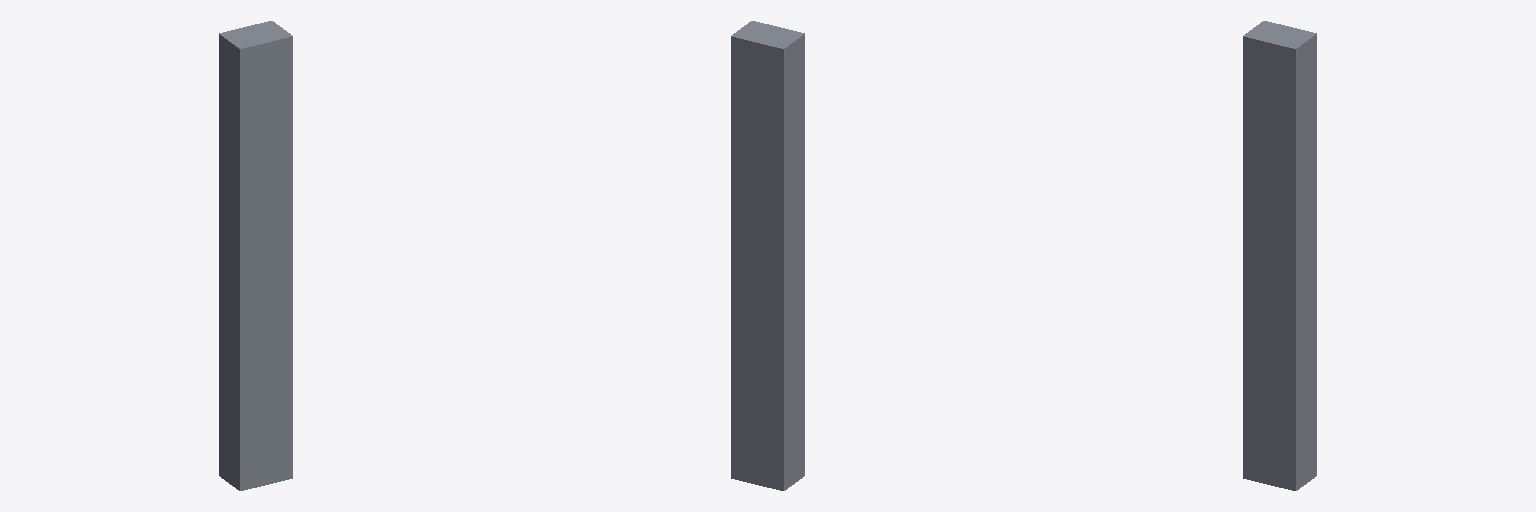
The robot description file, URDF, robot "artmanip_knife_000":
<?xml version='1.0' encoding='utf-8'?>
<robot name="artmanip_knife_000"><link name="link_0"><inertial><mass value="0.031355823555285205" /><inertia ixx="4.861872604116419e-05" iyy="4.901383451750586e-05" izz="1.1480288363137078e-06" ixy="0" ixz="0" iyz="0" /></inertial><visual><geometry><box size="0.017183784020088334 0.01200303409776134 0.13587681738270369" /></geometry><material name="link_0_color"><color rgba=".58 .60 .64 1" /></material></visual><collision><geometry><box size="0.017183784020088334 0.01200303409776134 0.13587681738270369" /></geometry></collision></link><link name="link_1"><inertial><mass value="0.006" /><inertia ixx="4.545e-07" iyy="5e-07" izz="5.45e-08" ixy="0" ixz="0" iyz="0" /></inertial><visual><geometry><mesh filename="slider-shoulder.obj" /></geometry><material name="link_1_color"><color rgba=".12 .13 .15 1" /></material></visual><collision><geometry><mesh filename="slider-shoulder.obj" /></geometry></collision></link><joint name="slider" type="prismatic"><parent link="link_0" /><child link="link_1" /><origin xyz="0.00034870588610950537 0.007714153161473067 0.009780684582918083" /><axis xyz="0 0 1" /><limit lower="-0.03267458688196273" upper="0.017325413118037272" effort="100" velocity="1" /><dynamics damping="1000" friction="0.001" /></joint></robot>

--- Facts derived from the render (not from the file) ---
3 views of the same robot in one strip: view 1: azimuth 30°, elevation 25°; view 2: azimuth 150°, elevation 25°; view 3: azimuth 330°, elevation 25° (orthographic).
Model artmanip_knife_000 with 2 links and 1 joints (1 prismatic), rooted at link_0, posed every joint at zero.
Visible links, largest first — view 1: link_0; view 2: link_0; view 3: link_0.
Boxes of the visible links, box(x1,y1,x2,y2) form: link_0: box(219, 21, 292, 490); link_0: box(731, 21, 804, 490); link_0: box(1243, 21, 1316, 490).
Size in the robot's own frame: 0.0172 by 0.012 by 0.1359 metres.
0 mesh visuals loaded from 1 distinct referenced files (none loaded); not drawn: 1 (reference not matched to a file when rendering).
